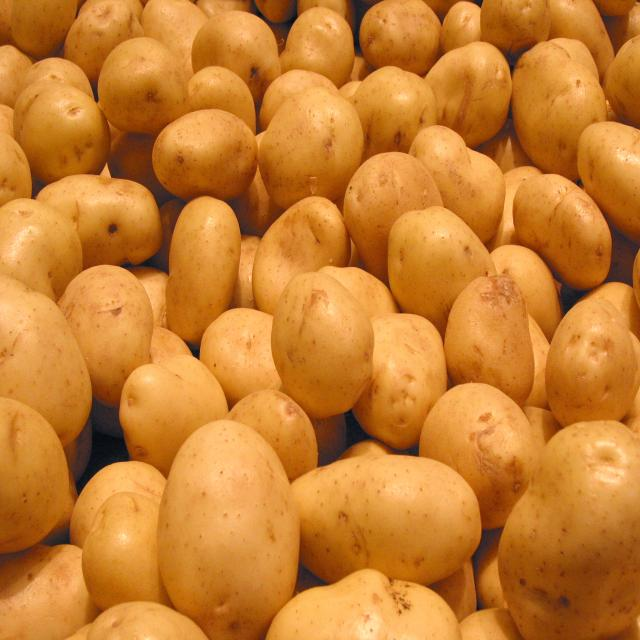potato: (162, 415, 299, 640), (292, 461, 481, 586), (546, 279, 640, 424), (271, 276, 370, 409), (261, 87, 368, 206), (513, 170, 619, 290), (165, 195, 250, 337), (446, 273, 536, 406), (119, 363, 231, 464), (151, 106, 261, 197), (100, 44, 184, 120)
